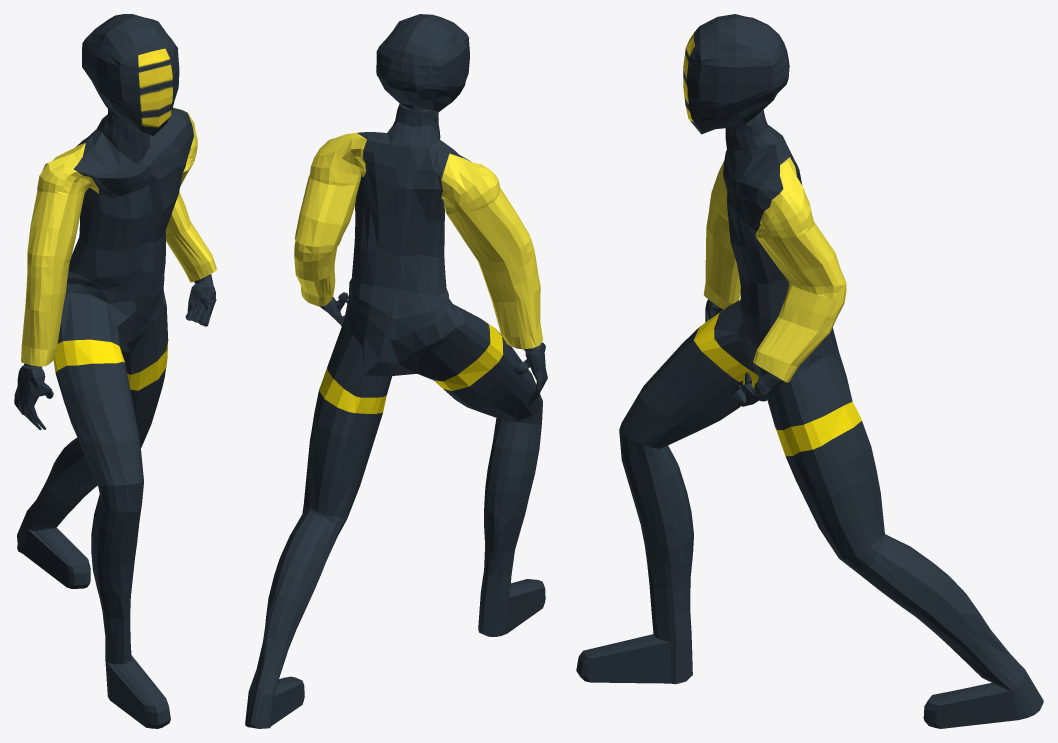
Rendered from Sentry_Stun_Recover_000009.obj.
The picture shows the model from 3 angles, left to right: view 1: azimuth 30°, elevation 25°; view 2: azimuth 150°, elevation 25°; view 3: azimuth 270°, elevation 25°; orthographic projection. The views are drawn at different scales.
Parts seen in each view (by area): view 1: Cube; view 2: Cube; view 3: Cube.
Part boxes in pixels (x1=…): Cube: x1=14, y1=14, x2=216, y2=728; Cube: x1=245, y1=14, x2=547, y2=728; Cube: x1=576, y1=14, x2=1043, y2=728.
Bounding box in the file's own units: 1.3 × 3.6 × 2.22.
